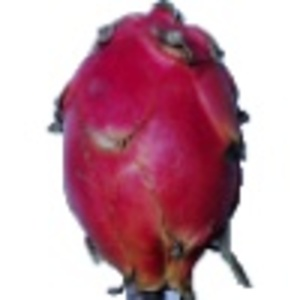pitaia: (49, 1, 254, 300)
